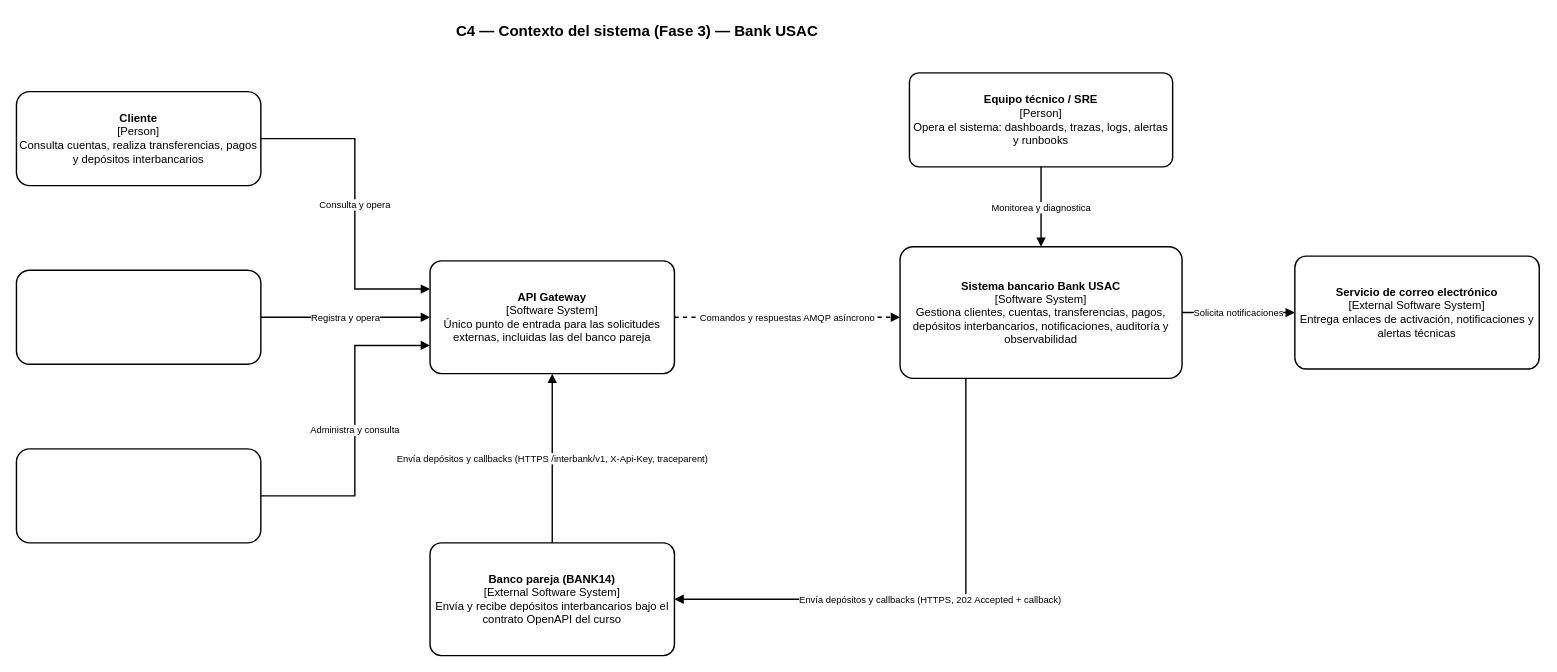
The diagram is 1557 pixels wide and 672 high, and some of its shapes have lost their labels. Here are the shapes that lost their labels. From the top down, the centre of each, then its label:
At point (138, 317): "Cajero Receptor [Person] Registra clientes, crea cuentas y realiza operaciones".
At point (138, 495): "Administrador [Person] Administra usuarios y consulta auditoría".
